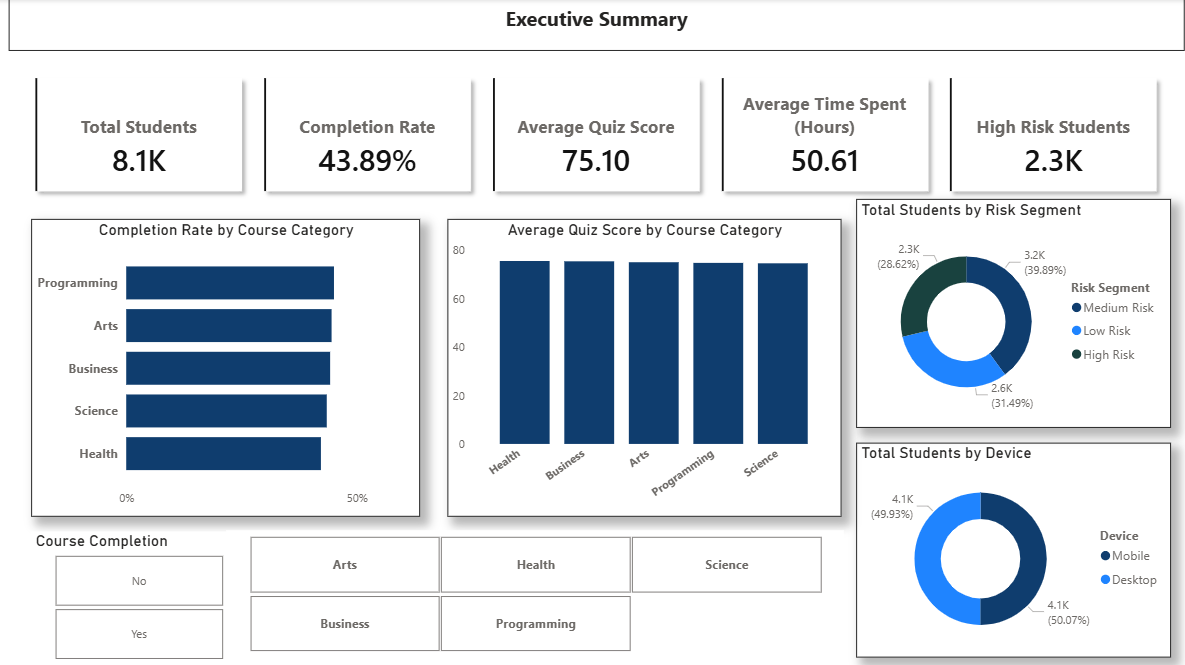

The page's visual inventory and layout, read from the dashboard file:
{"tool":"powerbi","page":{"name":"Executive Summary","canvas":[1280,720],"ordinal":0},"visuals":[{"type":"textbox","box":[9.6,0,1270.7,56.3],"z":0},{"type":"cardVisual","fields":{"Data":["student_data_clean.Total Students","student_data_clean.Completion Rate","student_data_clean.Average Quiz Score","student_data_clean.Average Time Spent","student_data_clean.High Risk Students"]},"box":[9.5,56.7,1270.8,181],"z":1000},{"type":"clusteredBarChart","title":"Completion Rate by Course Category","fields":{"Category":["student_data_clean.CourseCategory"],"Y":["student_data_clean.Completion Rate"]},"box":[33.8,237.7,420,321.4],"z":2000},{"type":"donutChart","fields":{"Category":["student_data_clean.Device Name"],"Y":["student_data_clean.Total Students"]},"box":[925.1,479.4,340.3,232.3],"z":3000},{"type":"columnChart","title":"Average Quiz Score by Course Category","fields":{"Y":["student_data_clean.Average Quiz Score"],"Category":["student_data_clean.CourseCategory"]},"box":[483.5,237.7,425.4,321.4],"z":4000},{"type":"donutChart","fields":{"Category":["student_data_clean.Risk Segment"],"Y":["student_data_clean.Total Students"]},"box":[925.1,216.1,340.3,247.1],"z":5000},{"type":"slicer","fields":{"Values":["student_data_clean.CourseCategory"]},"box":[244.4,574,667.1,137.8],"z":6000},{"type":"slicer","title":"Course Completion","fields":{"Values":["student_data_clean.Course Completion Text"]},"box":[33.8,575.3,230.9,144.5],"z":7000}]}

Visuals, with their boxes in screenshot pixels (x1, y1, x2, y2), scaled from the page's 1280x720 canvas onto the 1185x665 screenshot:
textbox: x1=9 y1=0 x2=1184 y2=52
cardVisual - student_data_clean.Total Students x student_data_clean.Completion Rate: x1=9 y1=52 x2=1184 y2=220
"Completion Rate by Course Category" clusteredBarChart: x1=31 y1=220 x2=420 y2=516
donutChart - student_data_clean.Device Name x student_data_clean.Total Students: x1=856 y1=443 x2=1171 y2=657
"Average Quiz Score by Course Category" columnChart: x1=448 y1=220 x2=841 y2=516
donutChart - student_data_clean.Risk Segment x student_data_clean.Total Students: x1=856 y1=200 x2=1171 y2=428
slicer - student_data_clean.CourseCategory: x1=226 y1=530 x2=844 y2=657
"Course Completion" slicer: x1=31 y1=531 x2=245 y2=664
